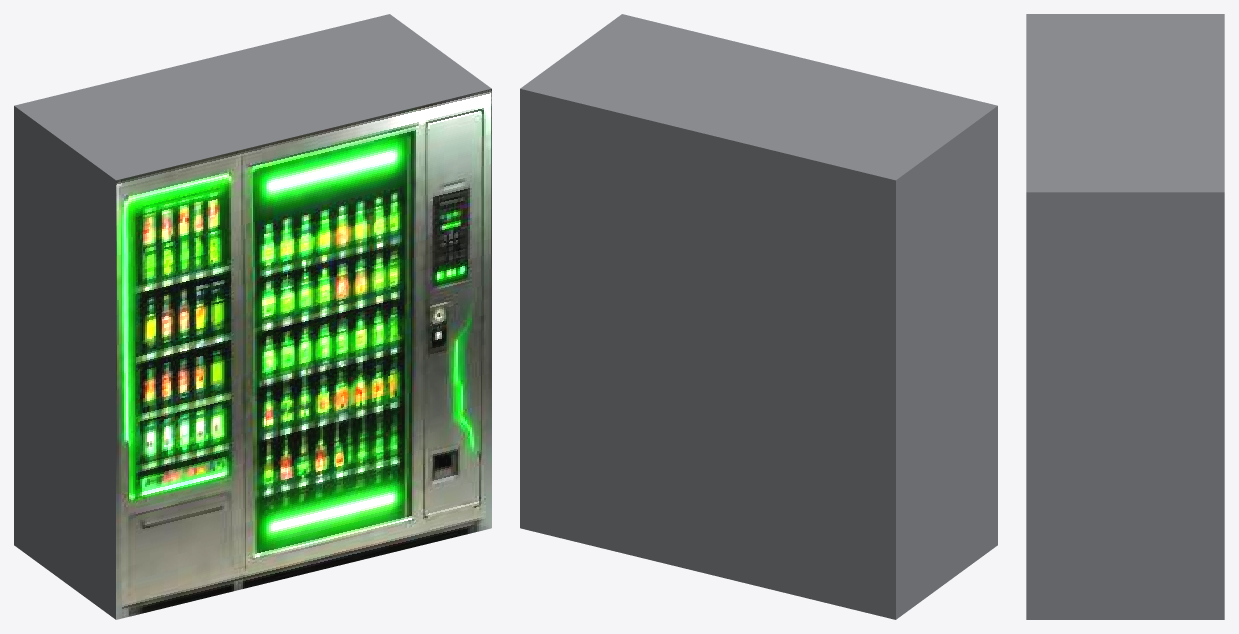
File: vending_kiosk.glb
The picture shows the model from 3 angles, left to right: view 1: azimuth 30°, elevation 25°; view 2: azimuth 150°, elevation 25°; view 3: azimuth 270°, elevation 25°; orthographic projection. The views are drawn at different scales.
Parts seen in each view (by area): view 1: Cube; view 2: Cube; view 3: Cube.
Part boxes in pixels (<box>): Cube: <box>14,14,491,619</box>; Cube: <box>520,14,997,619</box>; Cube: <box>1026,14,1224,619</box>.
Bounding box in the file's own units: 1.7 × 1.9 × 0.8.
Materials: 2 (1 with a texture image).
